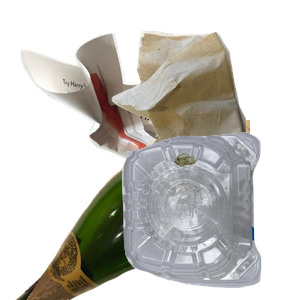glass: (13, 120, 253, 300)
paper: (18, 30, 213, 210)
plastic: (119, 130, 300, 300)
trash: (109, 28, 300, 208)
